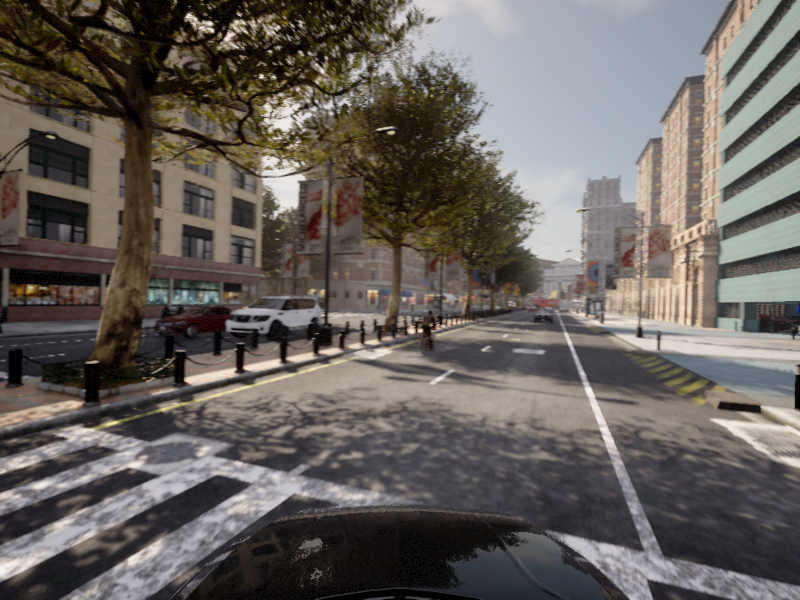vehicle: (219, 293, 327, 343), (147, 304, 254, 340), (413, 310, 442, 356), (533, 309, 553, 323)
